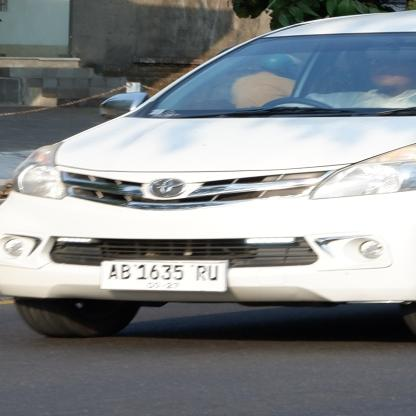Plat-Nomor: (100, 256, 230, 297)
